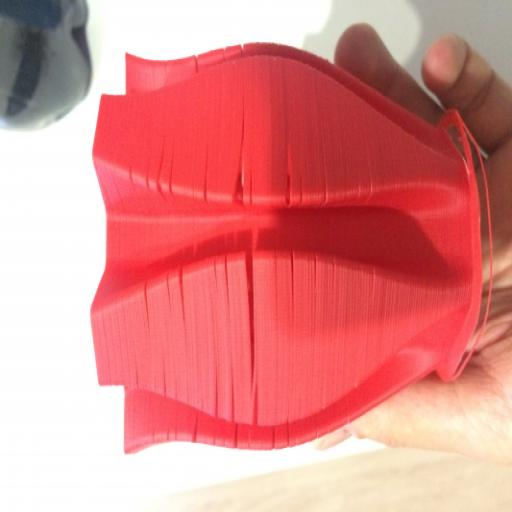cracks: (230, 151, 281, 377), (134, 262, 192, 325), (214, 406, 264, 463), (142, 137, 184, 200)
